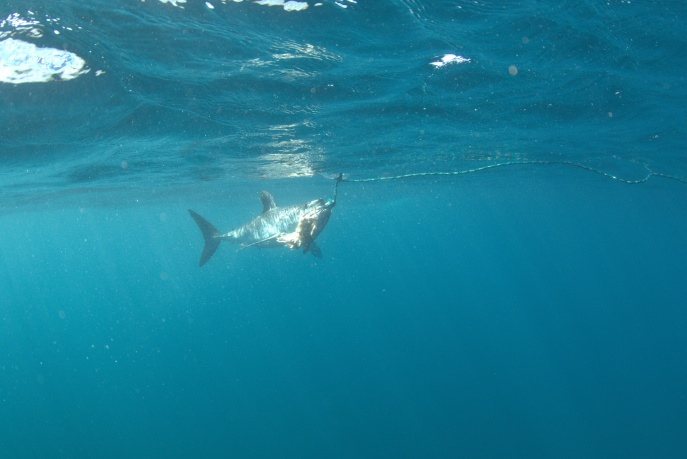Mako: (179, 173, 348, 278)
